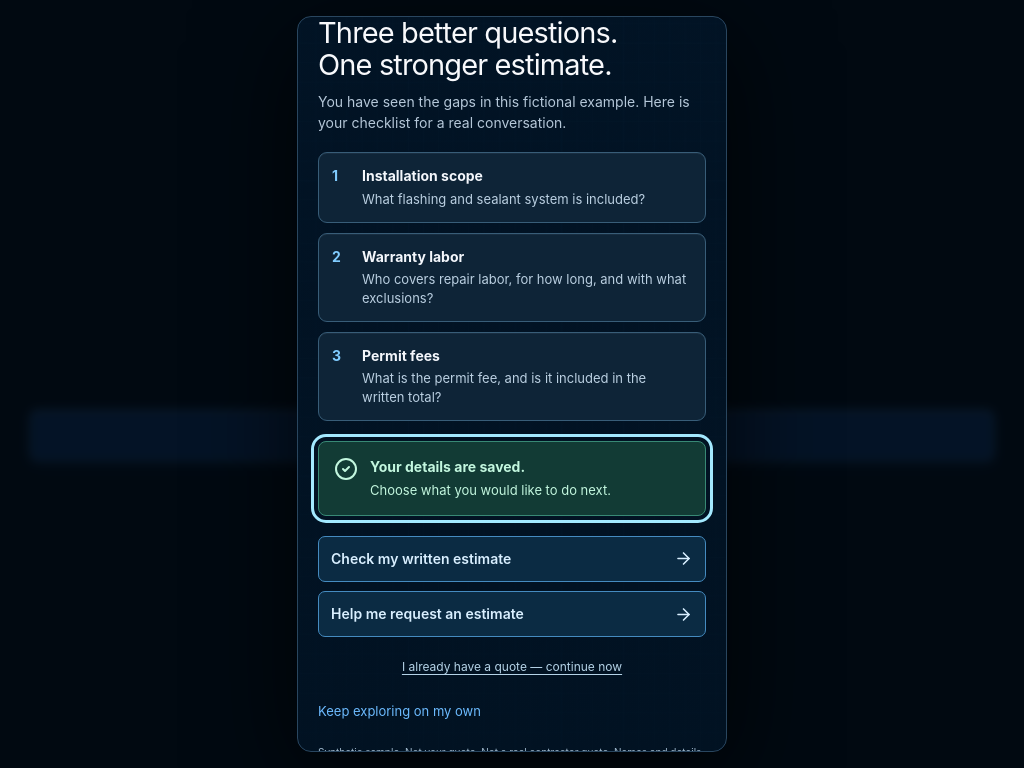
Test: synthetic visual QA viewer › maps lens, labels synthetic QA, and uses only memory capture
Earlier steps of the test are not shown.
(page scrolled)
Expected: the text "Your details are saved." is shown, [370,458,525,474]
Click the button "Help me request an estimate".
click(512, 614)  # box [318,591,706,637]
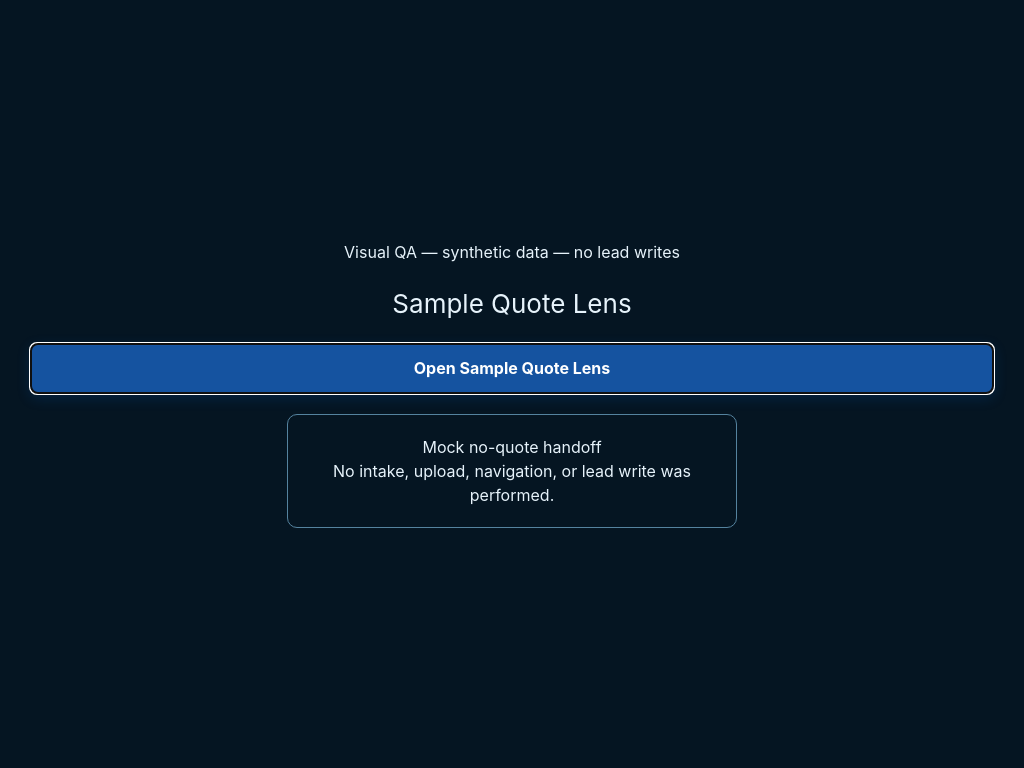
Result: the heading "Mock no-quote handoff" is shown at [422,437,602,457]
